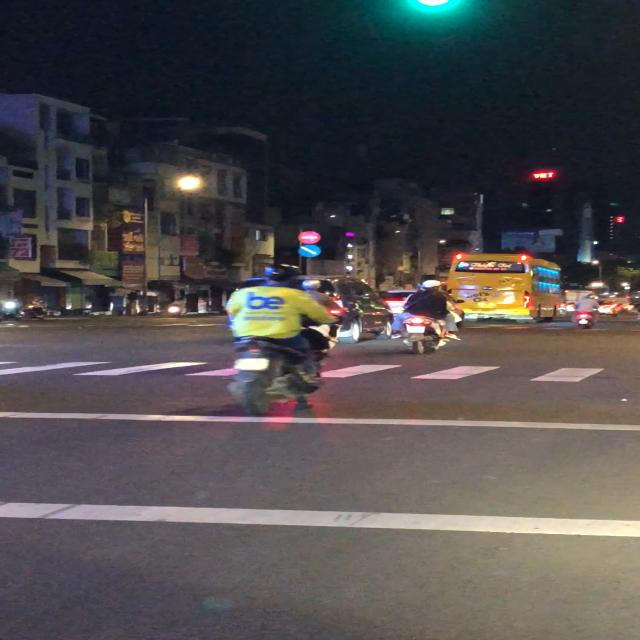Bien bao cam di nguoc chieu: (297, 230, 324, 244)
Bien bao huong phai di vong chuong ngai vat: (297, 244, 324, 258)
